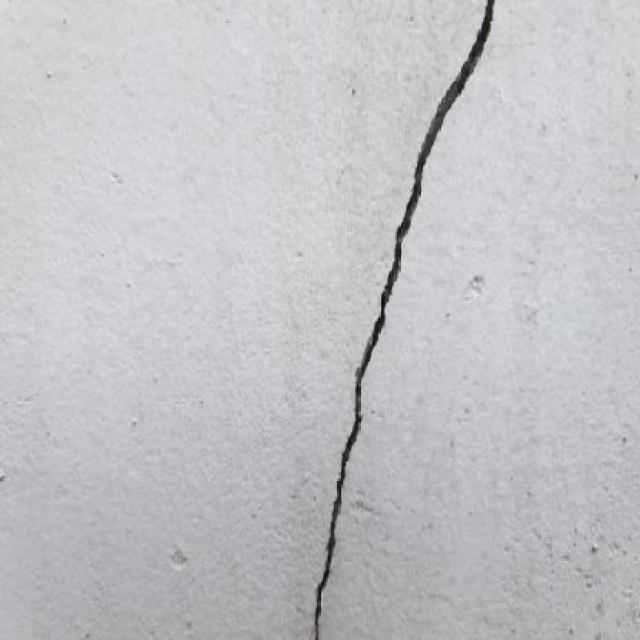GRIETA: (314, 0, 494, 639)
